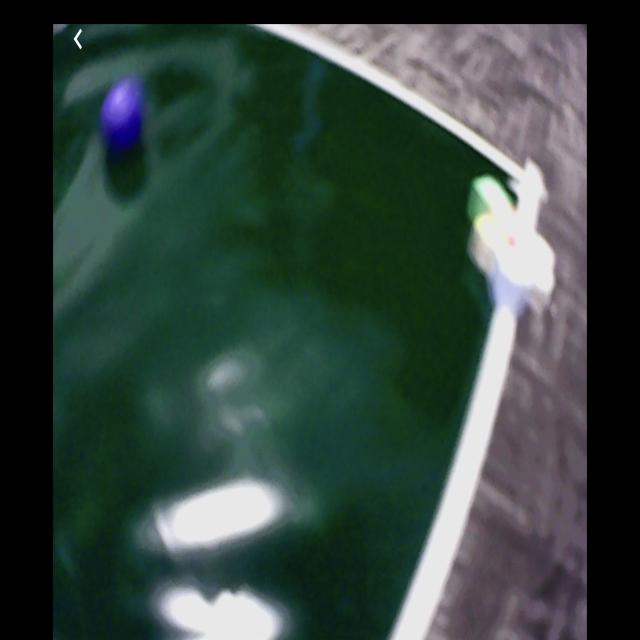ball: (99, 81, 148, 151)
